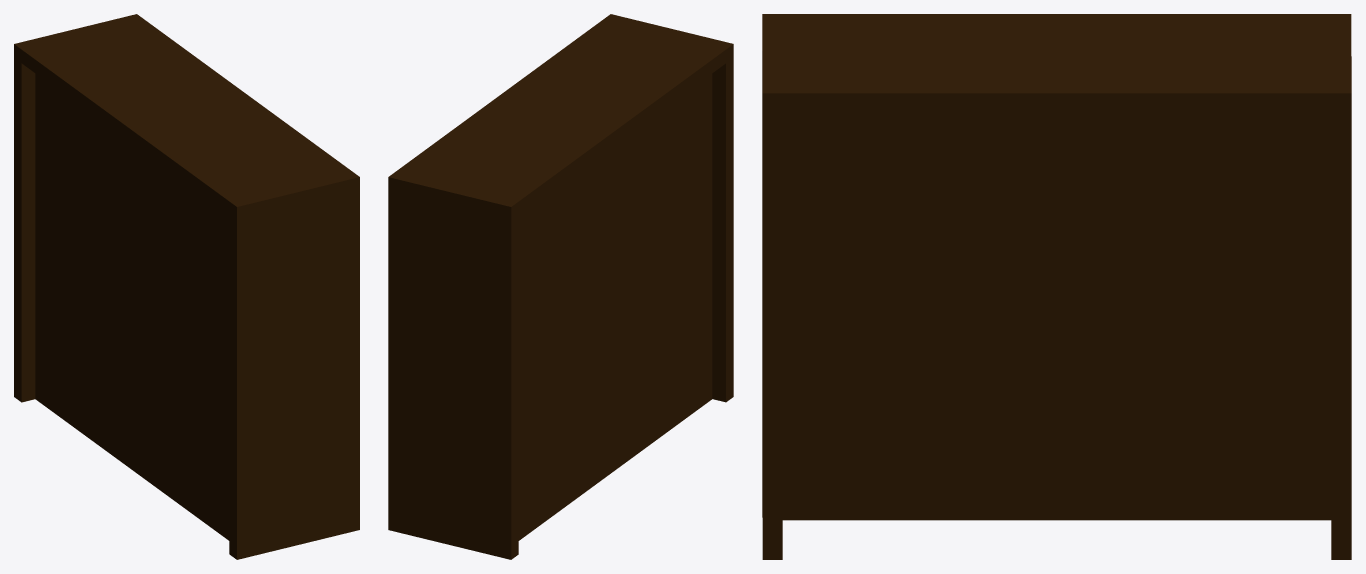
The model's file is window_2.FBX.
3 renders of one model, left to right at view 1: azimuth 30°, elevation 25°; view 2: azimuth 150°, elevation 25°; view 3: azimuth 270°, elevation 25°, orthographic. The views are drawn at different scales.
Parts seen in each view (by area): view 1: PivotDoor001; view 2: PivotDoor001; view 3: PivotDoor001.
Part boxes in pixels (<box>): PivotDoor001: <box>14,14,359,559</box>; PivotDoor001: <box>388,14,733,559</box>; PivotDoor001: <box>762,14,1351,559</box>.
Bounding box in the file's own units: 14.43 × 39.51 × 45.22.
